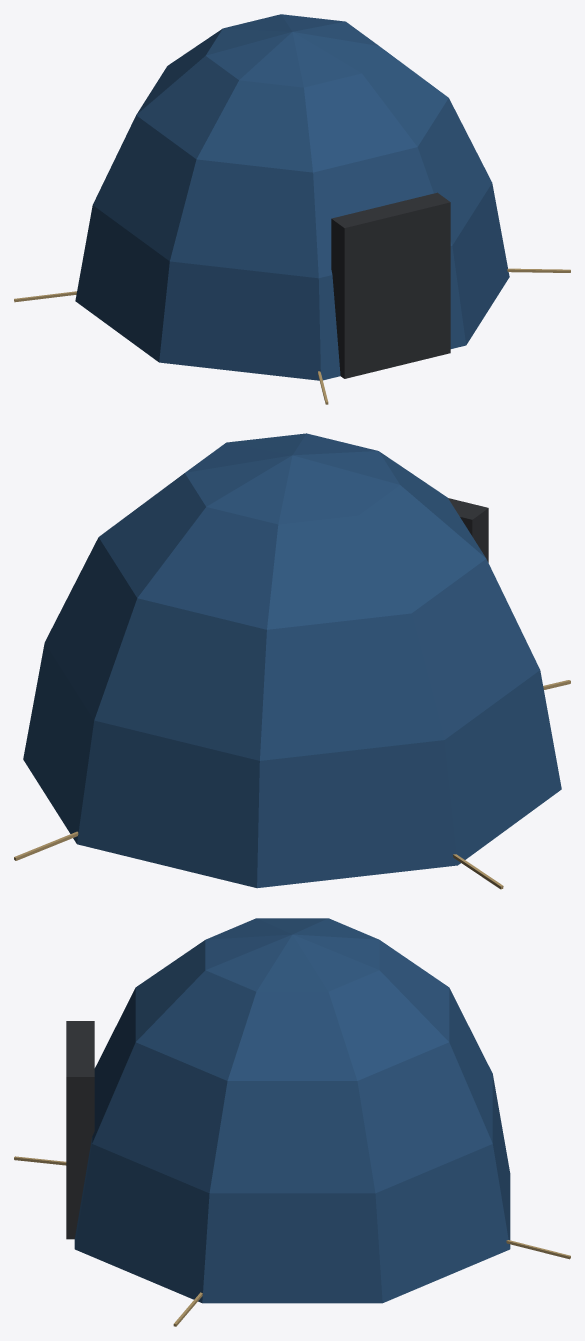
Rendered from SM_Borgo_Tent_Dome_Blue.glb.
3 views of the same model, one above another, from view 1: azimuth 30°, elevation 25°; view 2: azimuth 150°, elevation 25°; view 3: azimuth 270°, elevation 25° (orthographic). The views are drawn at different scales.
Parts seen in each view (by area): view 1: SM_Borgo_Tent_Dome_Blue; view 2: SM_Borgo_Tent_Dome_Blue; view 3: SM_Borgo_Tent_Dome_Blue.
Boxes of the visible parts, <box> form: SM_Borgo_Tent_Dome_Blue: <box>14,14,570,404</box>; SM_Borgo_Tent_Dome_Blue: <box>14,433,570,889</box>; SM_Borgo_Tent_Dome_Blue: <box>14,918,570,1326</box>.
Bounding box in the file's own units: 2.95 × 1.62 × 2.95.
Materials: 1 (1 with a texture image).
